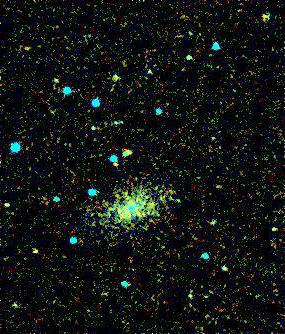star: (104, 149, 134, 179)
